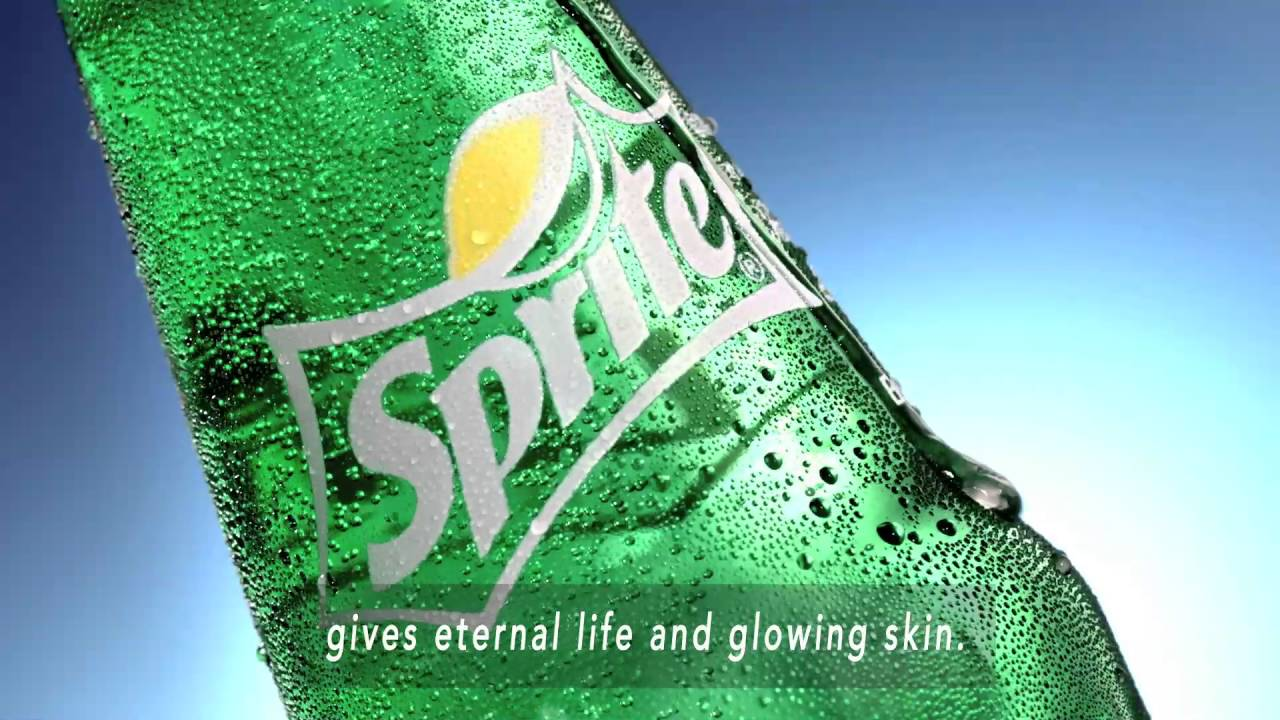sprite: (345, 140, 736, 618), (345, 140, 736, 587), (441, 140, 736, 618)
